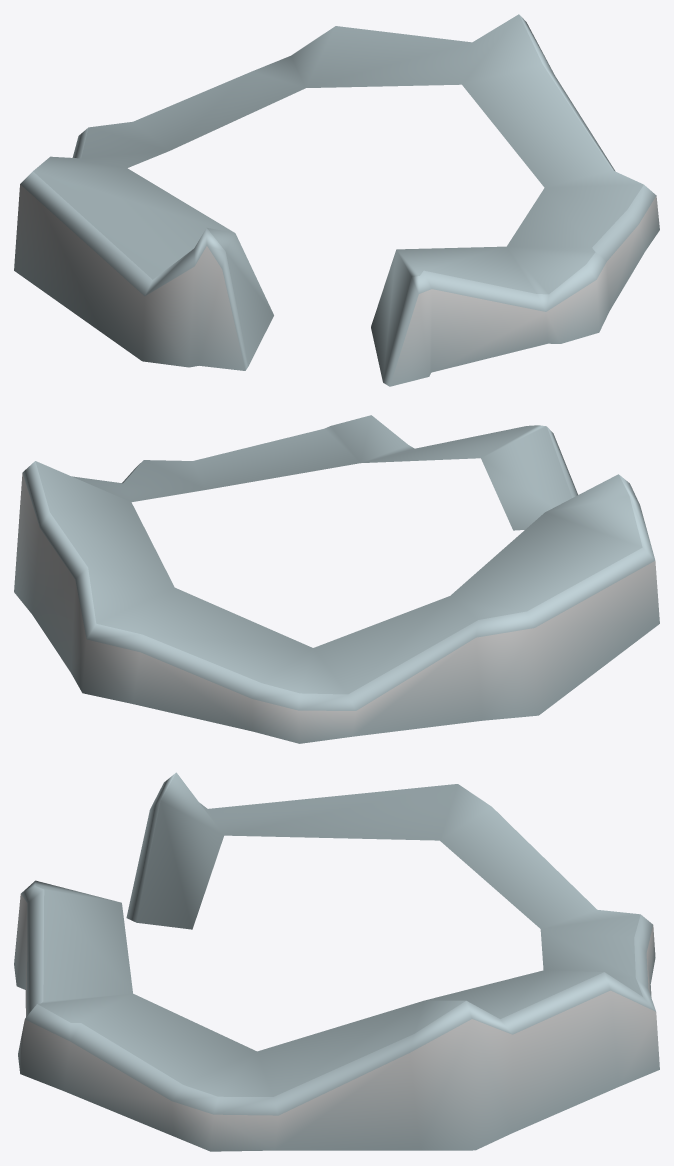
Rendered from LightHouseIceSheetBottom.glb.
3 renders of one model, top to bottom at view 1: azimuth 30°, elevation 25°; view 2: azimuth 150°, elevation 25°; view 3: azimuth 270°, elevation 25°, orthographic. The views are drawn at different scales.
Visible parts, largest first — view 1: LightHouseIceSheetBottom; view 2: LightHouseIceSheetBottom; view 3: LightHouseIceSheetBottom.
Part boxes in pixels (x1,y1,x2,y2): LightHouseIceSheetBottom: (14,14,659,386); LightHouseIceSheetBottom: (14,415,659,743); LightHouseIceSheetBottom: (14,772,659,1151).
Bounding box in the file's own units: 2.77 × 0.6769 × 2.78.
